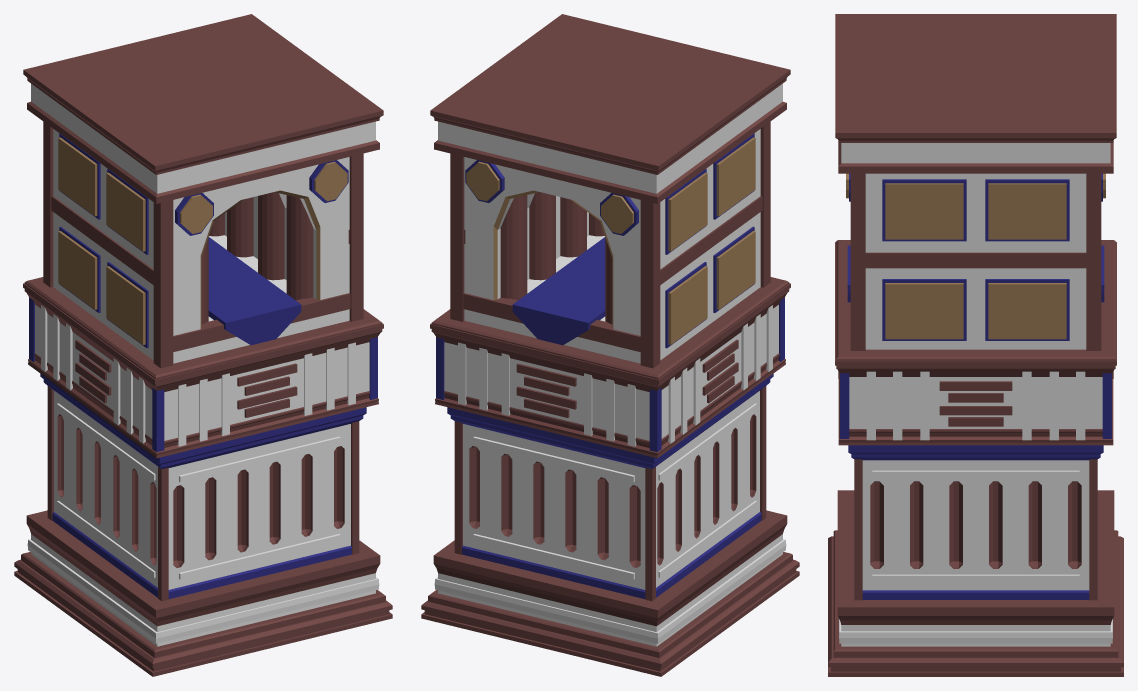
File: floor9.fbx
3 views of the same model, side by side, from view 1: azimuth 30°, elevation 25°; view 2: azimuth 150°, elevation 25°; view 3: azimuth 270°, elevation 25° (orthographic). The views are drawn at different scales.
Visible parts, largest first — view 1: floor9.4, floor9.1, floor9.3, floor9.0, floor9.3Decor, floor9.2, floor9.2Decor, floor9.1Decor, floor9.0Decor; view 2: floor9.4, floor9.1, floor9.3, floor9.0, floor9.3Decor, floor9.2, floor9.2Decor, floor9.1Decor, floor9.0Decor; view 3: floor9.4, floor9.1, floor9.3Decor, floor9.0, floor9.2, floor9.3, floor9.2Decor, floor9.1Decor, floor9.0Decor.
Boxes of the visible parts, x1,y1,x2,y2 form: floor9.4: (23,14,383,203); floor9.1: (40,373,366,598); floor9.3: (53,129,349,363); floor9.0: (14,510,392,676); floor9.3Decor: (43,121,363,368); floor9.2: (23,277,383,458); floor9.2Decor: (29,297,377,452); floor9.1Decor: (47,386,359,601); floor9.0Decor: (27,539,379,643); floor9.4: (430,14,790,203); floor9.1: (447,373,773,598); floor9.3: (464,129,760,363); floor9.0: (421,510,799,676); floor9.3Decor: (450,121,770,368); floor9.2: (430,277,790,458); floor9.2Decor: (436,297,784,452); floor9.1Decor: (454,386,766,601); floor9.0Decor: (434,539,786,643); floor9.4: (835,14,1116,173); floor9.1: (848,445,1103,599); floor9.3Decor: (846,173,1105,350); floor9.0: (828,490,1123,676); floor9.2: (835,240,1116,445); floor9.3: (847,173,1104,349); floor9.2Decor: (838,371,1113,440); floor9.1Decor: (854,459,1097,600); floor9.0Decor: (839,619,1112,643).
Size of the model in its own units: 220 by 443 by 220.
